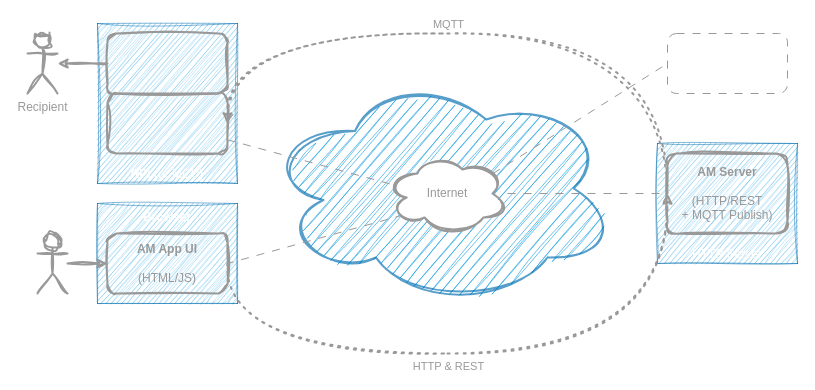
This 815x390 diagram has some shape labels left out. The centre of each missing label's shape, as x and y in pixels:
AM Client (MQTT Subscribe): point 167,123
AM Display (E-Paper): point 167,63
MQTT Broker: point 727,63
Sender: point 52,263
